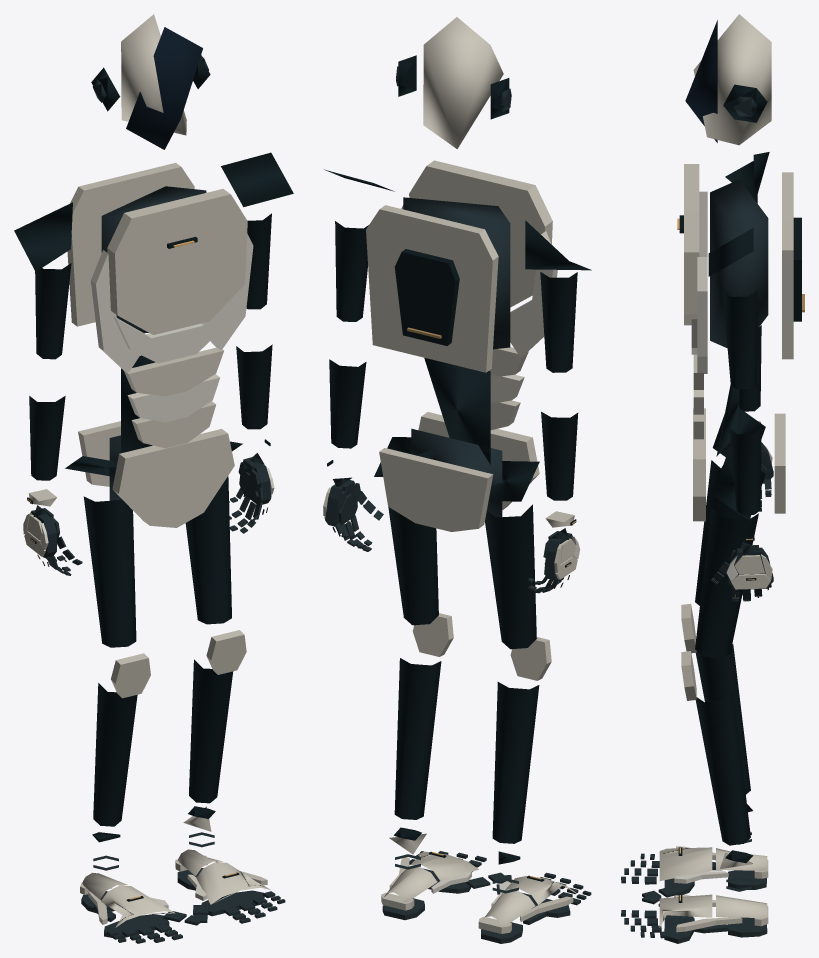
Rendered from nisoku02_d0_lod2.meshopt.glb.
The picture shows the model from 3 angles, left to right: view 1: azimuth 30°, elevation 25°; view 2: azimuth 150°, elevation 25°; view 3: azimuth 270°, elevation 25°; orthographic projection. The views are drawn at different scales.
Visible parts, largest first — view 1: NISOKU_02_GEOMETRY; view 2: NISOKU_02_GEOMETRY; view 3: NISOKU_02_GEOMETRY.
Boxes of the visible parts, <box> form: NISOKU_02_GEOMETRY: <box>14,14,293,943</box>; NISOKU_02_GEOMETRY: <box>323,17,591,943</box>; NISOKU_02_GEOMETRY: <box>621,14,804,943</box>.
Size of the model in its own units: 0.5652 by 1.9 by 0.3556.
